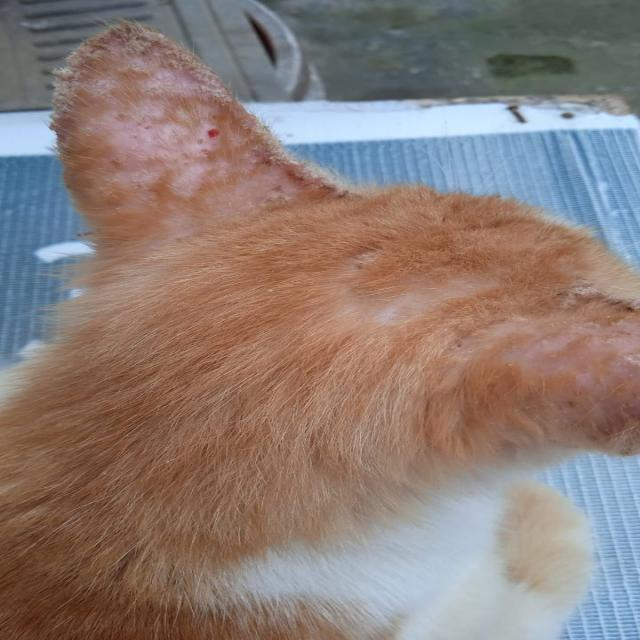cat-scabies: (22, 9, 398, 278), (567, 285, 633, 321)
